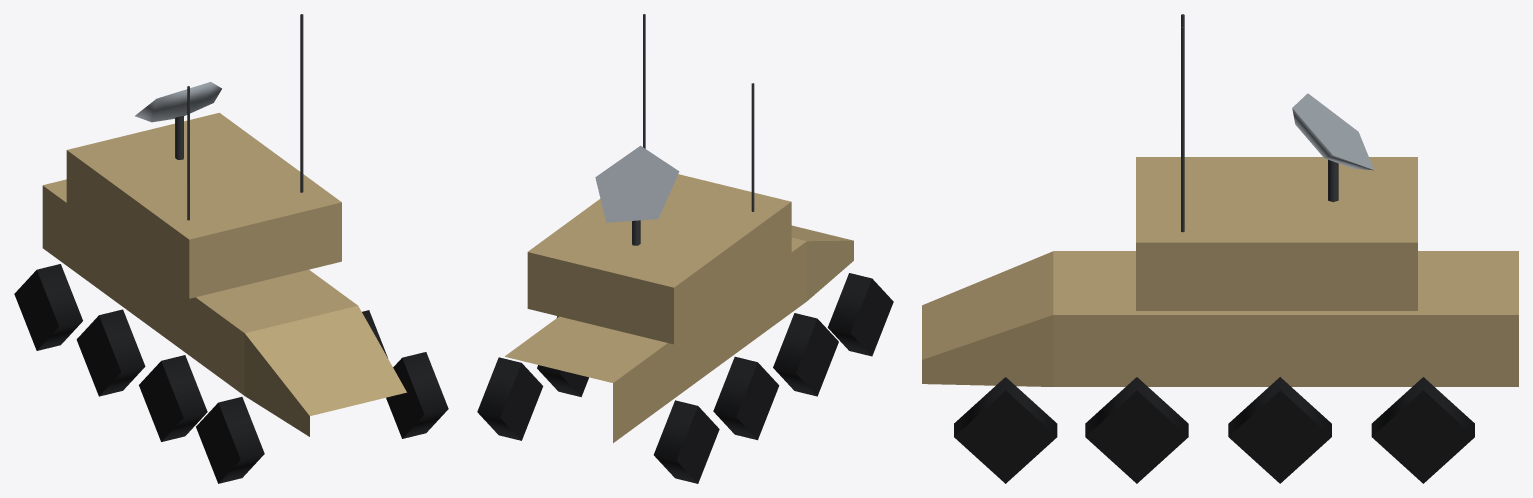
File: veh_ground_command_vehicle_a07_lod2.glb
3 views of the same model, side by side, from view 1: azimuth 30°, elevation 25°; view 2: azimuth 150°, elevation 25°; view 3: azimuth 270°, elevation 25° (orthographic). The views are drawn at different scales.
Visible parts, largest first — view 1: body, wheel_0, wheel_6, wheel_4, wheel_2, wheel_7, radar; view 2: body, radar, wheel_0, wheel_1, wheel_4, wheel_6, wheel_2, wheel_3; view 3: body, wheel_7, wheel_1, wheel_5, wheel_3, radar.
Part boxes in pixels (bbox=[...]): body: bbox=[42, 14, 406, 436]; wheel_0: bbox=[14, 264, 82, 350]; wheel_6: bbox=[196, 397, 264, 483]; wheel_4: bbox=[139, 355, 207, 441]; wheel_2: bbox=[76, 309, 145, 396]; wheel_7: bbox=[386, 352, 448, 438]; radar: bbox=[135, 82, 221, 159]; body: bbox=[505, 14, 853, 442]; radar: bbox=[595, 145, 679, 245]; wheel_0: bbox=[653, 400, 719, 483]; wheel_1: bbox=[477, 357, 543, 440]; wheel_4: bbox=[773, 313, 838, 396]; wheel_6: bbox=[827, 273, 893, 356]; wheel_2: bbox=[713, 356, 779, 440]; wheel_3: bbox=[537, 316, 588, 397]; body: bbox=[922, 14, 1518, 386]; wheel_7: bbox=[954, 377, 1057, 483]; wheel_1: bbox=[1371, 377, 1474, 483]; wheel_5: bbox=[1085, 377, 1188, 483]; wheel_3: bbox=[1228, 377, 1331, 483]; radar: bbox=[1292, 93, 1373, 202].
Bounding box in the file's own units: 2.94 × 5.05 × 6.35.
